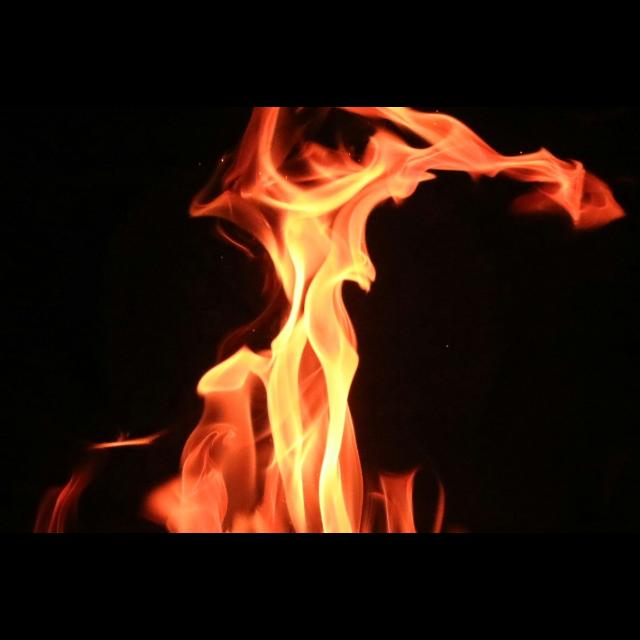fire: (148, 107, 620, 534)
